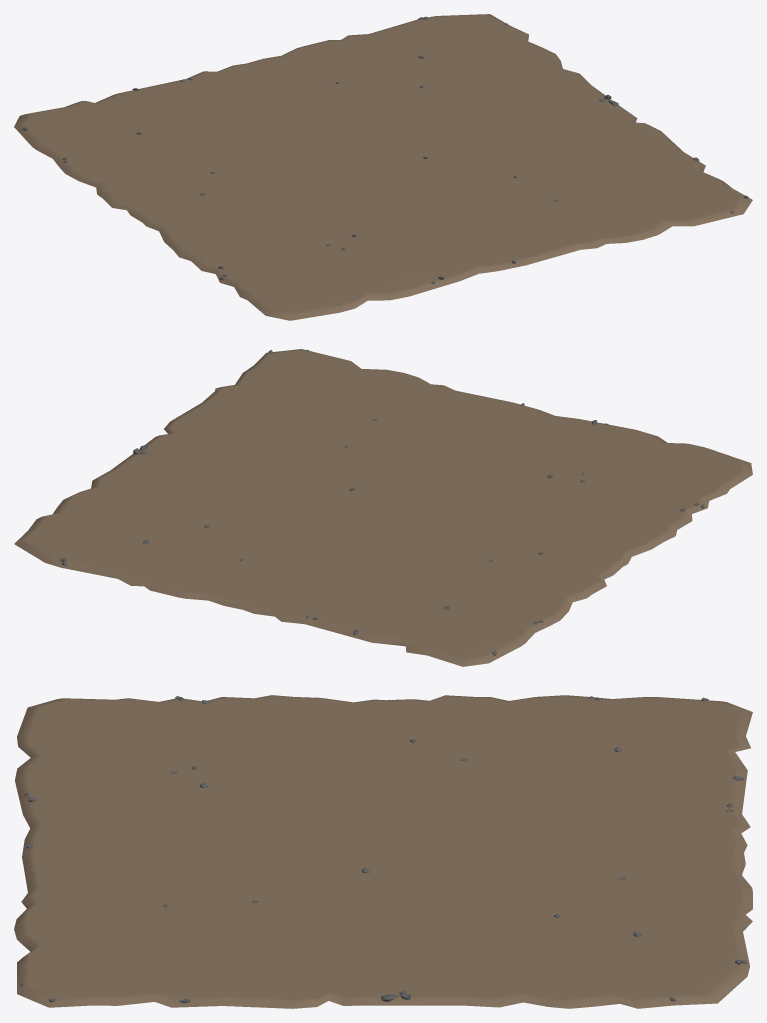
The model's file is G_Soil_Location01_LD.fbx.
3 renders of one model, top to bottom at view 1: azimuth 30°, elevation 25°; view 2: azimuth 150°, elevation 25°; view 3: azimuth 270°, elevation 25°, orthographic. The views are drawn at different scales.
Parts seen in each view (by area): view 1: G_Soil_Location01; view 2: G_Soil_Location01; view 3: G_Soil_Location01.
Boxes of the visible parts, x1=… form: G_Soil_Location01: x1=14, y1=14, x2=752, y2=320; G_Soil_Location01: x1=14, y1=349, x2=752, y2=666; G_Soil_Location01: x1=14, y1=695, x2=752, y2=1008.
Size of the model in its own units: 416 by 5.46 by 415.
1 material, 1 textured.
